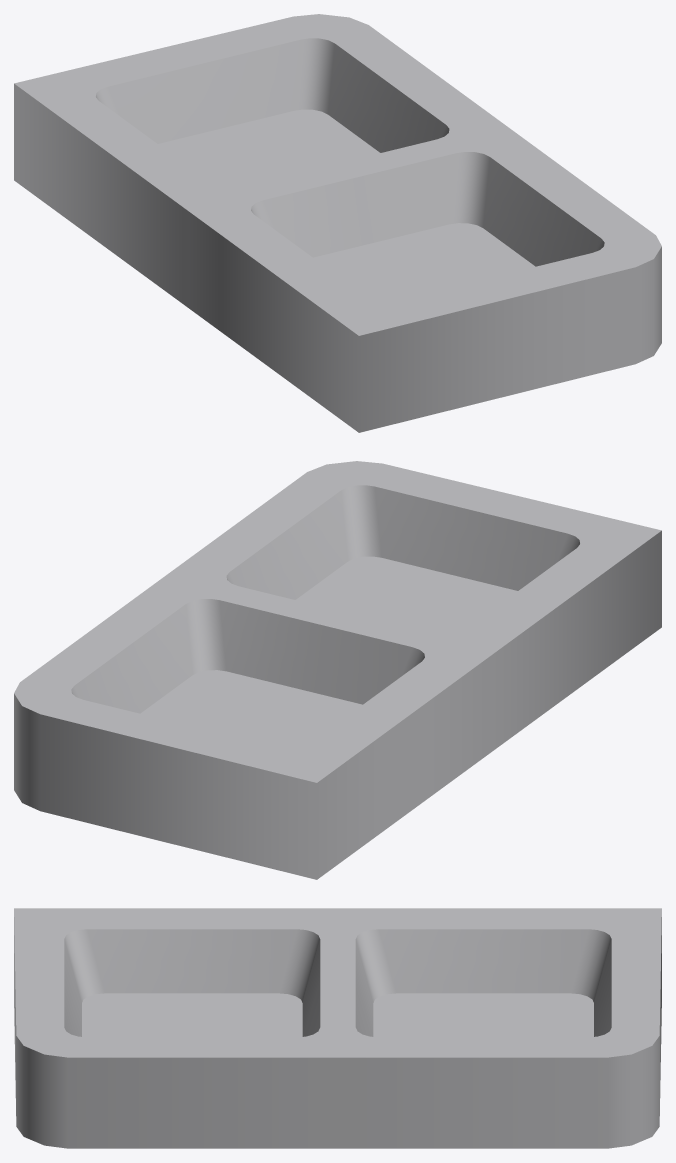
File: Sink.fbx
3 renders of one model, top to bottom at view 1: azimuth 30°, elevation 25°; view 2: azimuth 150°, elevation 25°; view 3: azimuth 270°, elevation 25°, orthographic. The views are drawn at different scales.
Parts seen in each view (by area): view 1: Sink; view 2: Sink; view 3: Sink.
Part boxes in pixels (x1,y1,x2,y2): Sink: [14, 14, 661, 432]; Sink: [14, 461, 661, 879]; Sink: [14, 908, 661, 1148].
Size of the model in its own units: 2.49 by 0.7075 by 4.56.
1 material, 1 textured.
